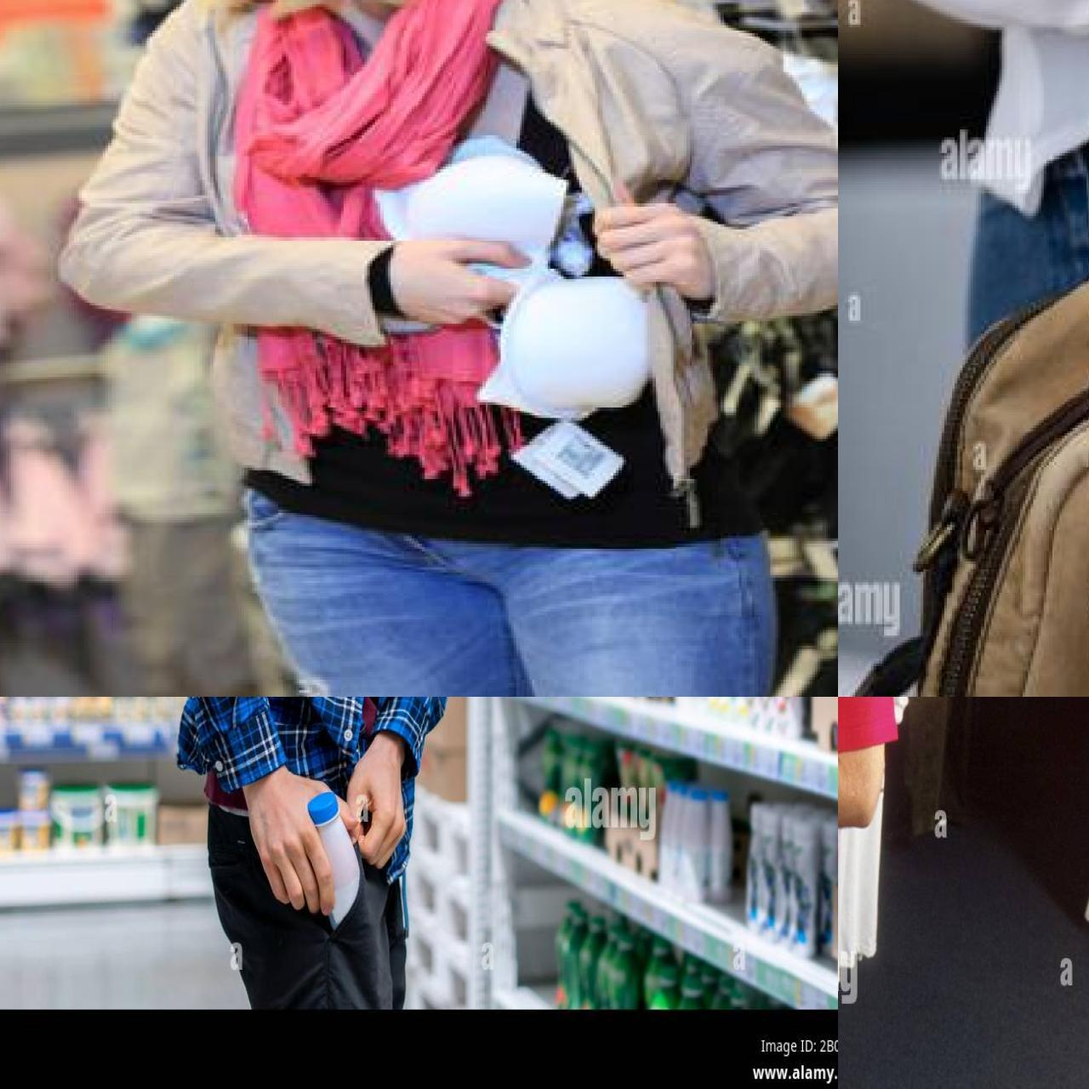shoplifting: (7, 30, 835, 562)
